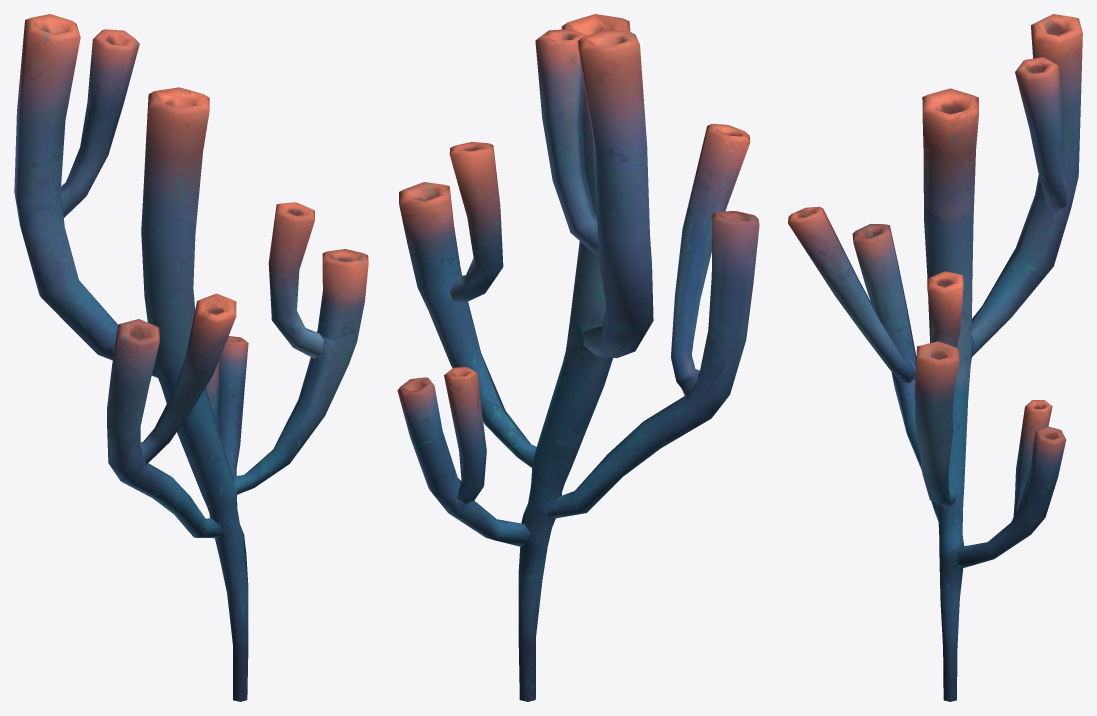
The model's file is Sce_Aquarium_Hawaii01_SeaAnemone05.FBX.
The picture shows the model from 3 angles, left to right: view 1: azimuth 30°, elevation 25°; view 2: azimuth 150°, elevation 25°; view 3: azimuth 270°, elevation 25°; orthographic projection. The views are drawn at different scales.
Visible parts, largest first — view 1: Sce_Aquarium_Hawaii01_SeaAnemone05; view 2: Sce_Aquarium_Hawaii01_SeaAnemone05; view 3: Sce_Aquarium_Hawaii01_SeaAnemone05.
Boxes of the visible parts, x1,y1,x2,y2 form: Sce_Aquarium_Hawaii01_SeaAnemone05: [14, 14, 368, 701]; Sce_Aquarium_Hawaii01_SeaAnemone05: [397, 14, 759, 701]; Sce_Aquarium_Hawaii01_SeaAnemone05: [788, 14, 1082, 701].
Bounding box in the file's own units: 0.3048 × 0.6746 × 0.292.
